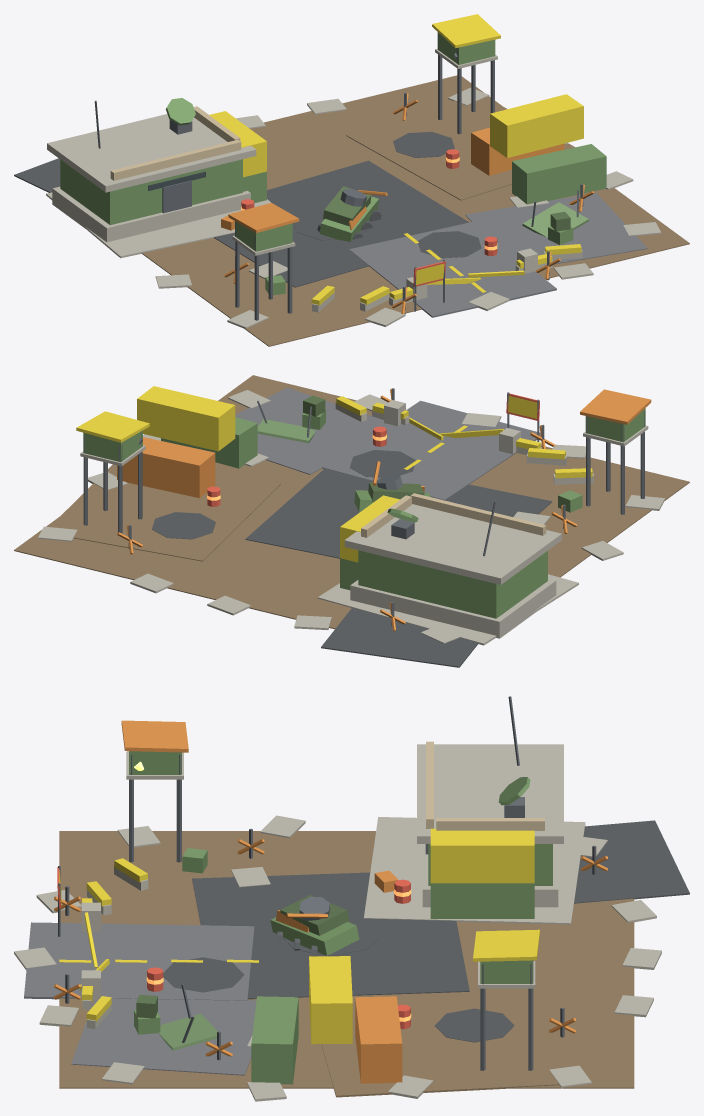
File: military_checkpoint.glb
3 views of the same model, one above another, from view 1: azimuth 30°, elevation 25°; view 2: azimuth 150°, elevation 25°; view 3: azimuth 270°, elevation 25° (orthographic). The views are drawn at different scales.
Parts seen in each view (by area): view 1: Ground_DirtUnderlay, Zone1_ScorchedKillzone, Bunker_HeavyRoofDeck, Zone2_HighwayAsphalt, Zone4_ContainerDirt, Zone6_RoadShoulder, Bunker_ConcreteWalls, Cont_East_YellowTop, Cont_East_Olive2, Bunker_HeavyBase, Zone3_BunkerConcrete, Cont_East_Rust1 (+17 smaller); view 2: Ground_DirtUnderlay, Zone4_ContainerDirt, Bunker_HeavyRoofDeck, Zone2_HighwayAsphalt, Zone1_ScorchedKillzone, Bunker_ConcreteWalls, Zone6_RoadShoulder, Zone5_ForestBreach, Cont_East_YellowTop, Bunker_HeavyBase, Cont_East_Rust1, Zone3_BunkerConcrete (+21 smaller); view 3: Ground_DirtUnderlay, Zone1_ScorchedKillzone, Zone4_ContainerDirt, Zone2_HighwayAsphalt, Bunker_HeavyRoofDeck, Zone6_RoadShoulder, Zone3_BunkerConcrete, Zone5_ForestBreach, Cont_Bunker_Yellow, Cont_East_Olive2, Cont_East_Rust1, Cont_East_YellowTop (+26 smaller).
Boxes of the visible parts, box(x1,y1,x2,y2) form: Ground_DirtUnderlay: box(142, 75, 689, 346); Zone1_ScorchedKillzone: box(214, 160, 469, 287); Bunker_HeavyRoofDeck: box(47, 107, 256, 192); Zone2_HighwayAsphalt: box(349, 221, 556, 317); Zone4_ContainerDirt: box(346, 97, 574, 200); Zone6_RoadShoulder: box(465, 193, 647, 264); Bunker_ConcreteWalls: box(60, 159, 242, 225); Cont_East_YellowTop: box(490, 94, 583, 157); Cont_East_Olive2: box(512, 144, 606, 204); Bunker_HeavyBase: box(52, 186, 250, 242); Zone3_BunkerConcrete: box(46, 192, 270, 258); Cont_East_Rust1: box(471, 127, 564, 175); Ground_DirtUnderlay: box(14, 375, 689, 629); Zone4_ContainerDirt: box(50, 464, 280, 561); Bunker_HeavyRoofDeck: box(344, 496, 561, 584); Zone2_HighwayAsphalt: box(321, 400, 540, 500); Zone1_ScorchedKillzone: box(245, 468, 552, 558); Bunker_ConcreteWalls: box(358, 550, 547, 618); Zone6_RoadShoulder: box(235, 387, 385, 474); Zone5_ForestBreach: box(321, 607, 478, 667); Cont_East_YellowTop: box(137, 386, 235, 451); Bunker_HeavyBase: box(350, 578, 556, 638); Cont_East_Rust1: box(117, 437, 215, 497); Zone3_BunkerConcrete: box(317, 574, 578, 645); Ground_DirtUnderlay: box(59, 831, 634, 1088); Zone1_ScorchedKillzone: box(192, 872, 469, 999); Zone4_ContainerDirt: box(321, 996, 569, 1097); Zone2_HighwayAsphalt: box(24, 922, 254, 1000); Bunker_HeavyRoofDeck: box(417, 744, 563, 843); Zone6_RoadShoulder: box(71, 998, 256, 1075); Zone3_BunkerConcrete: box(364, 817, 585, 924); Zone5_ForestBreach: box(574, 820, 689, 903); Cont_Bunker_Yellow: box(430, 828, 534, 883); Cont_East_Olive2: box(251, 996, 298, 1084); Cont_East_Rust1: box(355, 996, 402, 1083); Cont_East_YellowTop: box(309, 956, 352, 1044).
Bounding box in the file's own units: 42.06 × 10.17 × 42.32.
